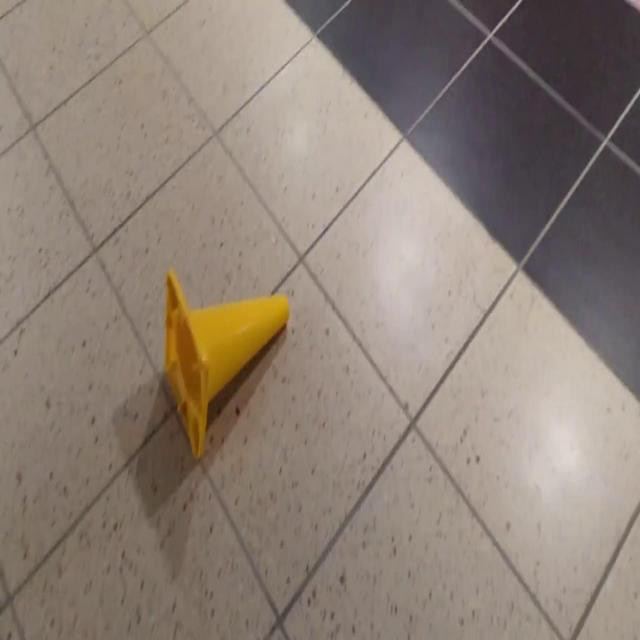frc_cone: (161, 268, 299, 466)
